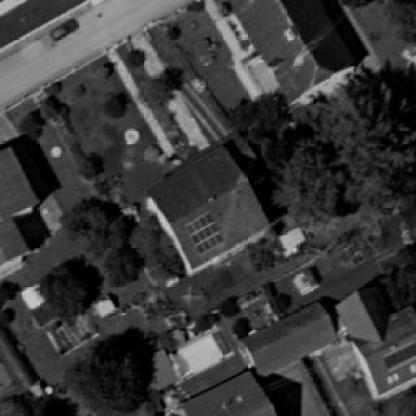solar-pv-panel: (186, 212, 225, 254), (383, 343, 416, 369)
